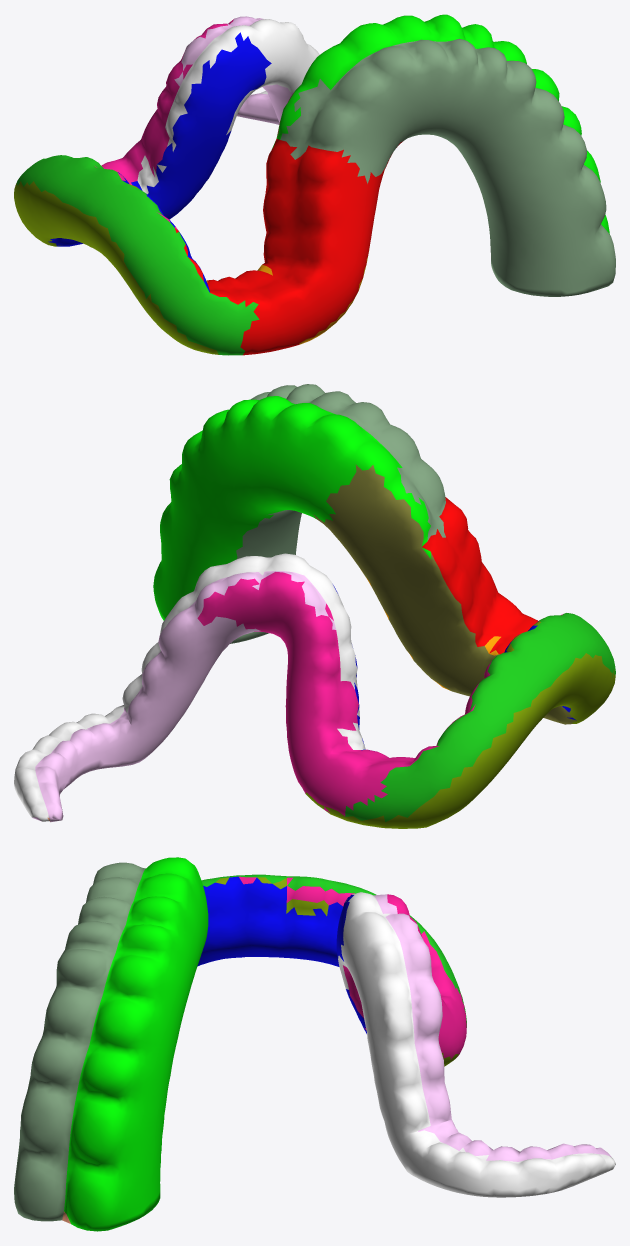
The model's file is model_64_segmented_new.obj.
The picture shows the model from 3 angles, top to bottom: view 1: azimuth 30°, elevation 25°; view 2: azimuth 150°, elevation 25°; view 3: azimuth 270°, elevation 25°; orthographic projection. The views are drawn at different scales.
Size of the model in its own units: 75.5 by 38.98 by 79.23.
